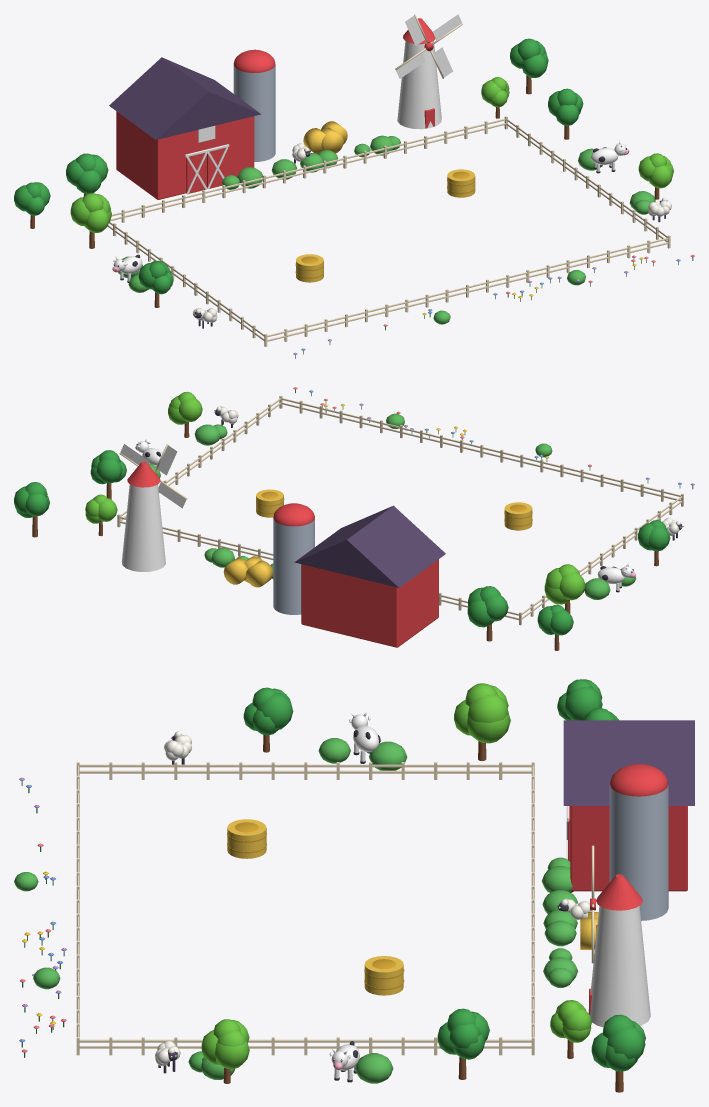
The model's file is place_farm.glb.
3 renders of one model, top to bottom at view 1: azimuth 30°, elevation 25°; view 2: azimuth 150°, elevation 25°; view 3: azimuth 270°, elevation 25°, orthographic. The views are drawn at different scales.
Visible parts, largest first — view 1: scenery.001, sails, obstacle_bale1, obstacle_bale0; view 2: scenery.001, sails, obstacle_bale0, obstacle_bale1; view 3: scenery.001, obstacle_bale0, obstacle_bale1.
Boxes of the visible parts, x1=… form: scenery.001: x1=14, y1=18, x2=694, y2=358; sails: x1=395, y1=14, x2=462, y2=78; obstacle_bale1: x1=447, y1=169, x2=475, y2=197; obstacle_bale0: x1=295, y1=254, x2=323, y2=282; scenery.001: x1=14, y1=387, x2=694, y2=650; sails: x1=119, y1=444, x2=187, y2=508; obstacle_bale0: x1=504, y1=502, x2=532, y2=530; obstacle_bale1: x1=256, y1=489, x2=284, y2=517; scenery.001: x1=14, y1=679, x2=694, y2=1092; obstacle_bale0: x1=227, y1=819, x2=266, y2=858; obstacle_bale1: x1=364, y1=956, x2=404, y2=995.
Bounding box in the file's own units: 44.84 × 9.53 × 34.73.
